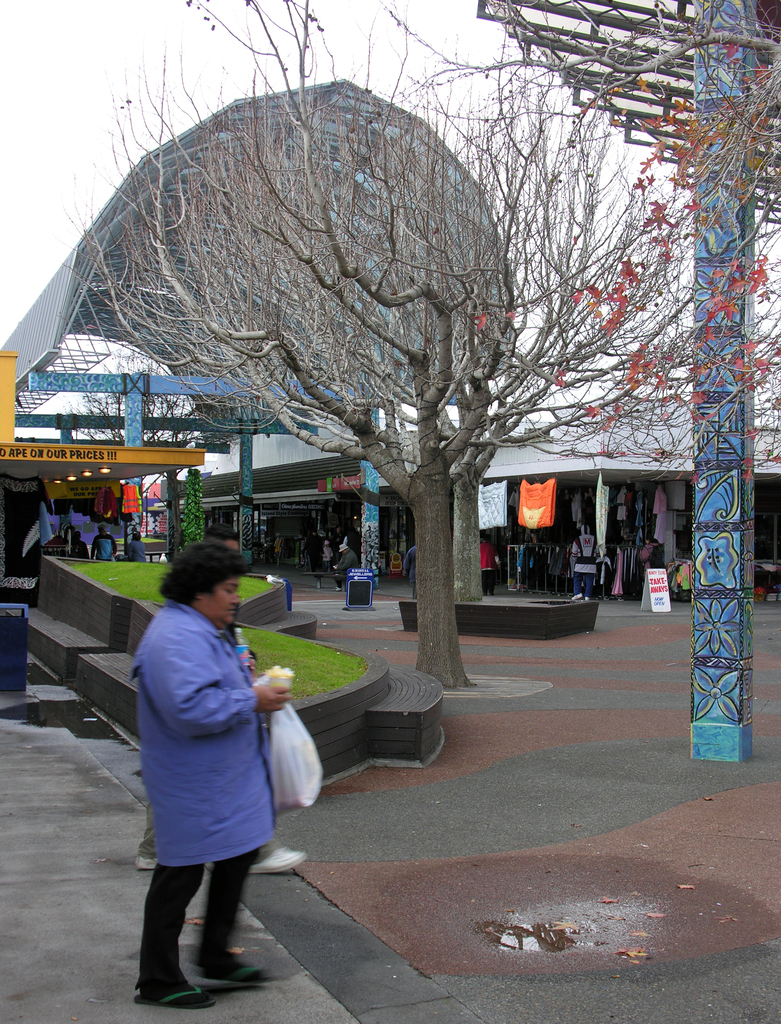Tree: (46, 0, 780, 693), (463, 0, 780, 481)
